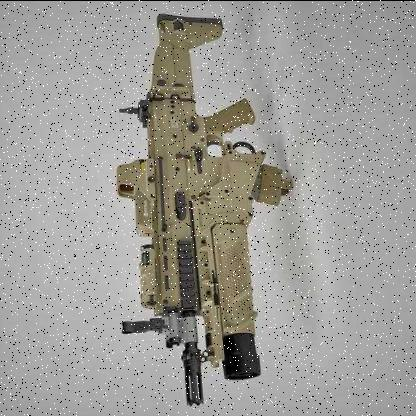rifle: (101, 1, 282, 408)
